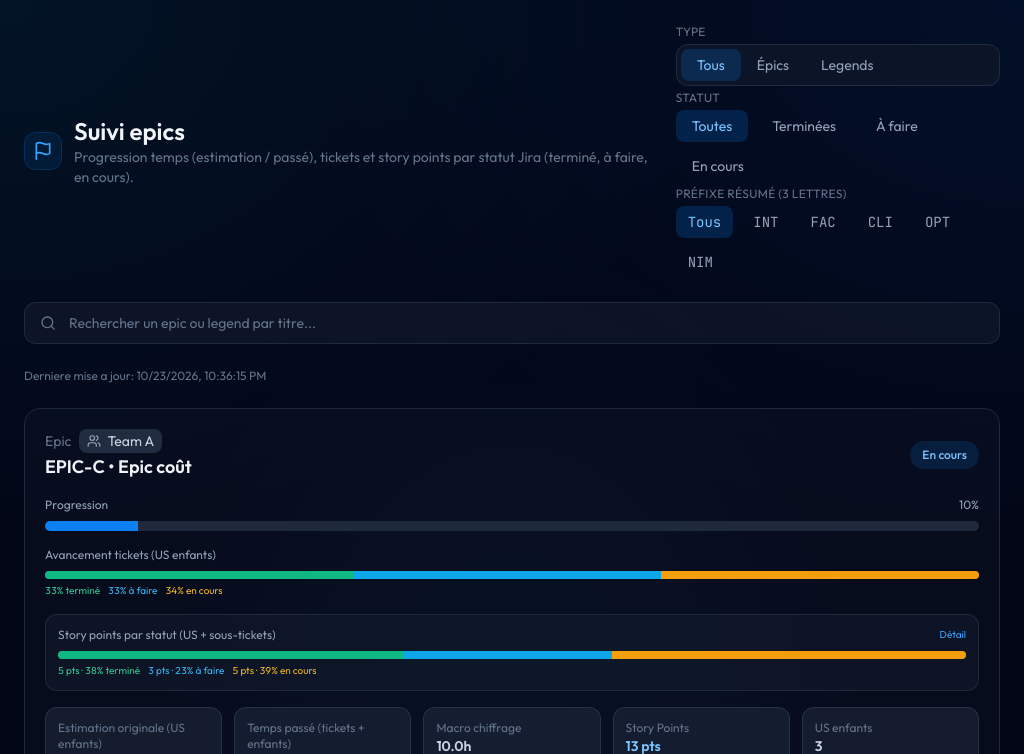
it: EpicProgressPage › tuile « Coût du projet » › masque la tuile quand le serveur ne renvoie pas de coût
Click the button that starts with "Epic" at (512, 514), box [45, 429, 979, 598]
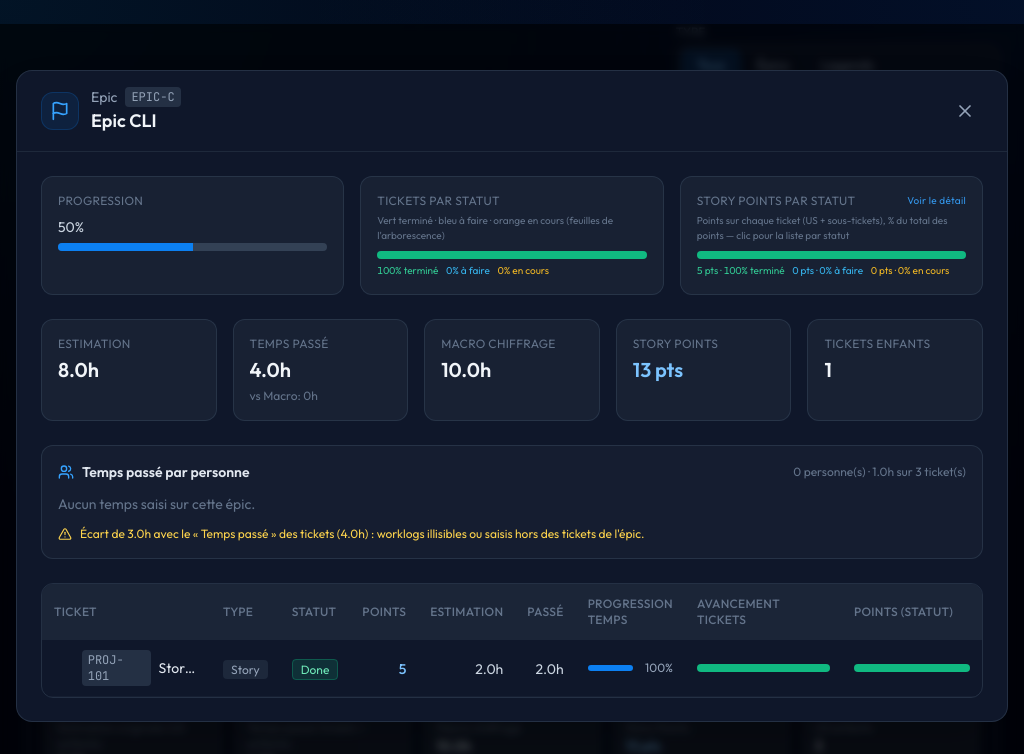
Now the text "Tickets enfants" is shown, box [824, 336, 930, 351]
Now the text "Aucun temps saisi sur cette épic." is shown, box [58, 495, 255, 513]
